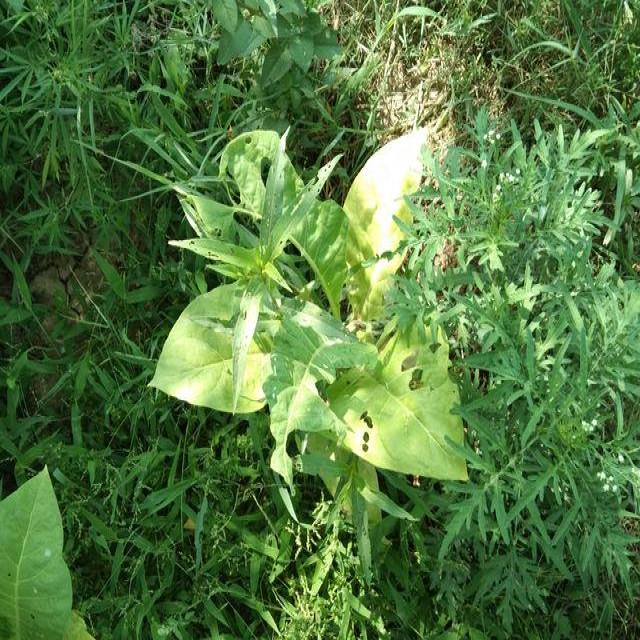crop: (155, 131, 388, 482)
